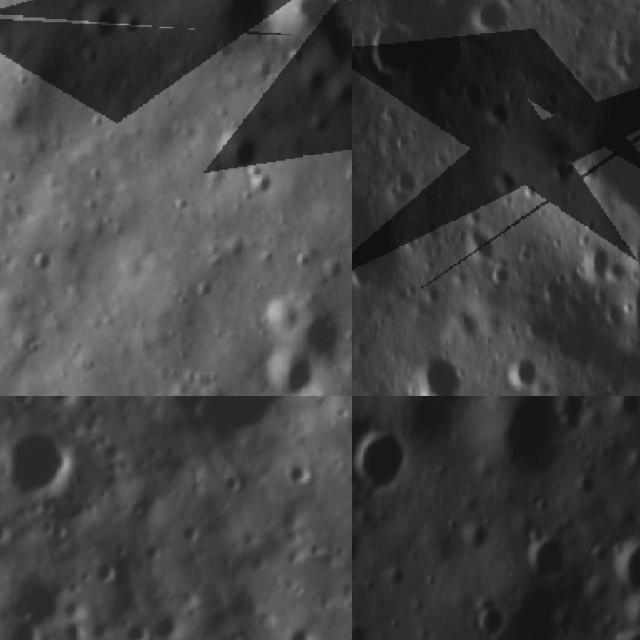crater: (159, 396, 327, 446), (199, 0, 311, 69), (3, 423, 84, 502), (354, 426, 404, 497), (288, 306, 342, 363), (202, 126, 261, 177), (366, 22, 420, 74), (417, 346, 466, 396), (258, 348, 309, 396), (74, 0, 125, 47), (525, 526, 563, 580), (501, 340, 540, 391), (608, 539, 640, 599), (470, 0, 508, 39), (468, 601, 503, 640), (579, 240, 610, 283), (467, 222, 494, 268), (149, 609, 189, 640), (277, 458, 313, 488), (487, 98, 519, 130), (494, 162, 518, 200), (117, 619, 153, 640), (94, 560, 116, 588), (223, 468, 247, 492), (352, 531, 365, 570), (0, 517, 14, 548), (286, 627, 318, 640), (352, 620, 367, 640)
